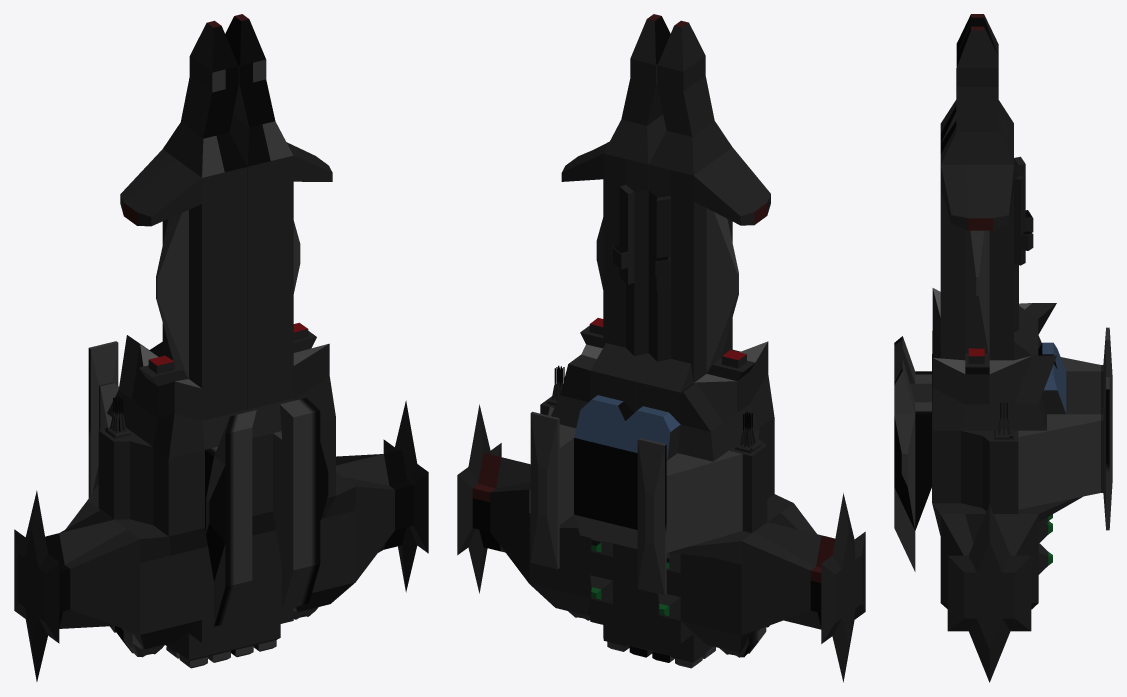
The model's file is ship3new.fbx.
3 renders of one model, left to right at view 1: azimuth 30°, elevation 25°; view 2: azimuth 150°, elevation 25°; view 3: azimuth 270°, elevation 25°, orthographic. The views are drawn at different scales.
Visible parts, largest first — view 1: Cube; view 2: Cube; view 3: Cube.
Part boxes in pixels (box(x1,y1,x2,y2)): Cube: box(14, 14, 428, 681); Cube: box(457, 14, 865, 682); Cube: box(894, 14, 1112, 682).
Size of the model in its own units: 2488 by 3975 by 1336.
